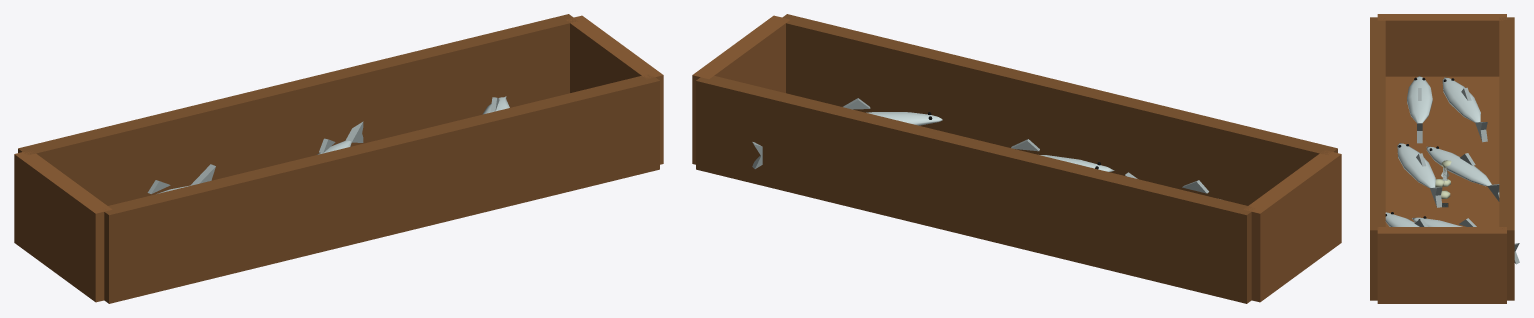
The model's file is Fish_Smelt.fbx.
3 views of the same model, side by side, from view 1: azimuth 30°, elevation 25°; view 2: azimuth 150°, elevation 25°; view 3: azimuth 270°, elevation 25° (orthographic). The views are drawn at different scales.
Parts seen in each view (by area): view 1: Fish_Smelt__Stack; view 2: Fish_Smelt__Stack; view 3: Fish_Smelt__Stack, Fish_Smelt__Rotten.
Part boxes in pixels (bbox=[...]): Fish_Smelt__Stack: bbox=[14, 14, 663, 303]; Fish_Smelt__Stack: bbox=[692, 14, 1341, 303]; Fish_Smelt__Stack: bbox=[1370, 14, 1519, 303]; Fish_Smelt__Rotten: bbox=[1435, 160, 1451, 206].
Size of the model in its own units: 0.268 by 0.04 by 0.0773.
